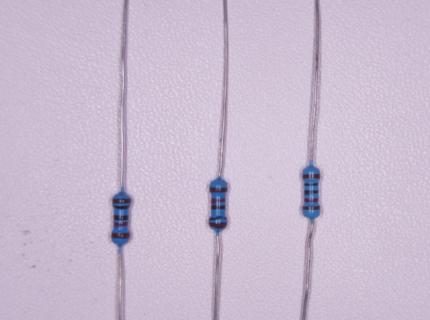Black band: (305, 190, 318, 196), (114, 215, 129, 220), (113, 205, 131, 209), (209, 216, 227, 220), (211, 205, 225, 209), (304, 183, 318, 186)
Brown band: (210, 222, 227, 229), (111, 233, 130, 238), (210, 187, 227, 192), (113, 199, 131, 203), (302, 174, 320, 178), (303, 206, 320, 210)
Red band: (212, 198, 225, 204), (304, 198, 318, 203), (114, 222, 128, 226)
